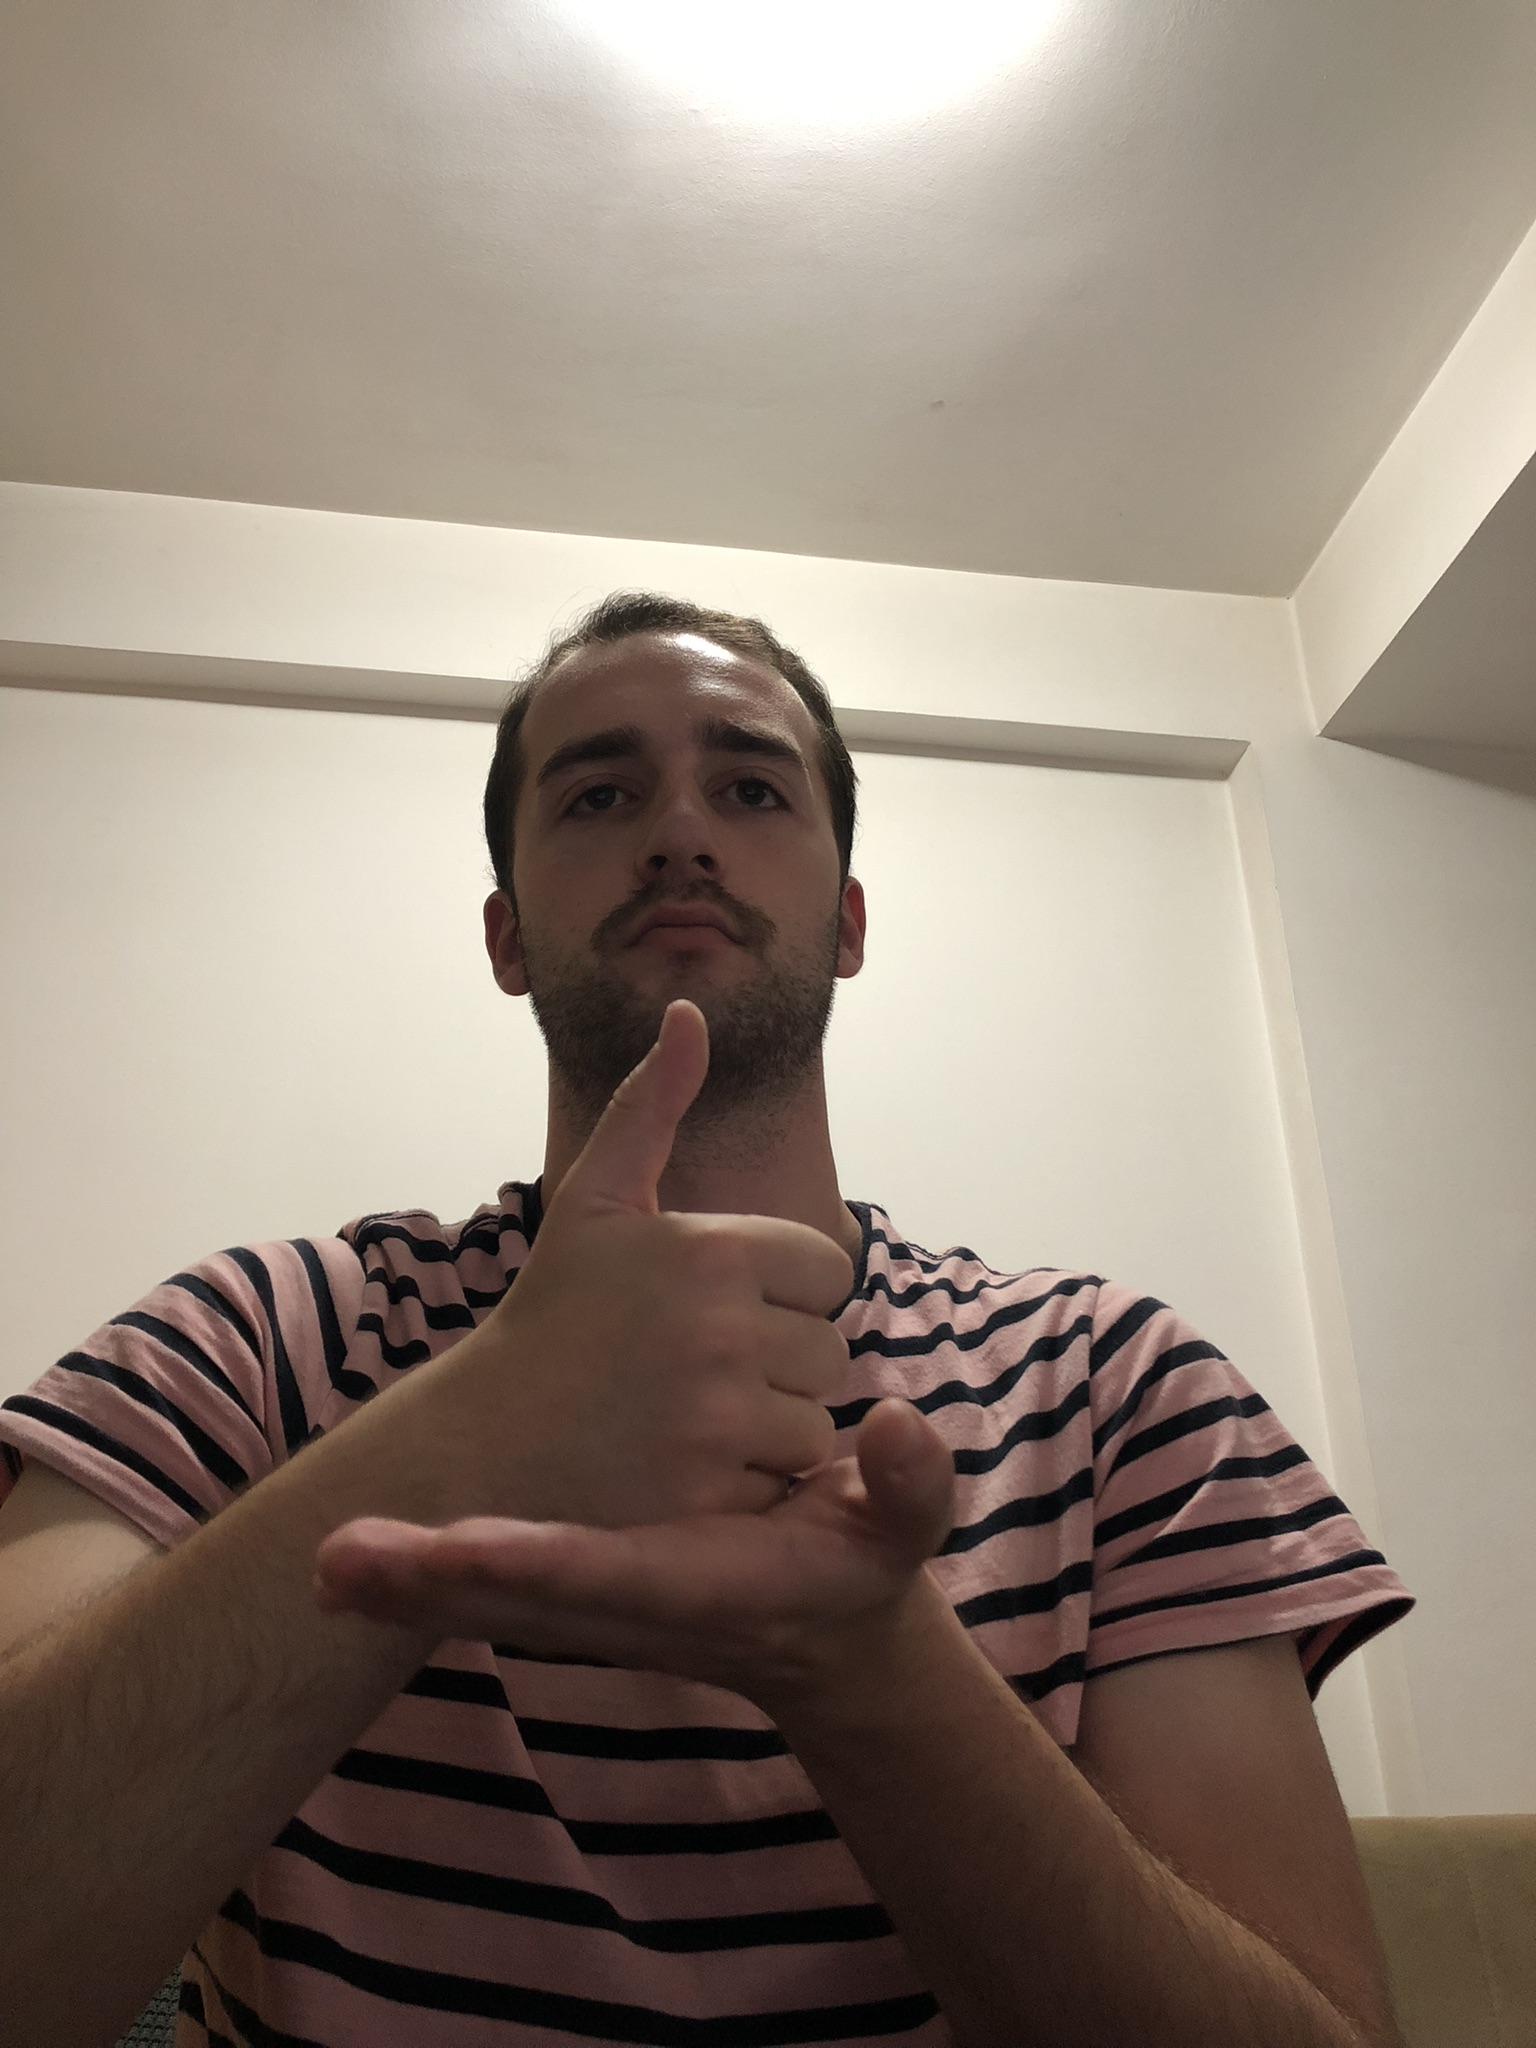Help: (300, 980, 981, 1706)
